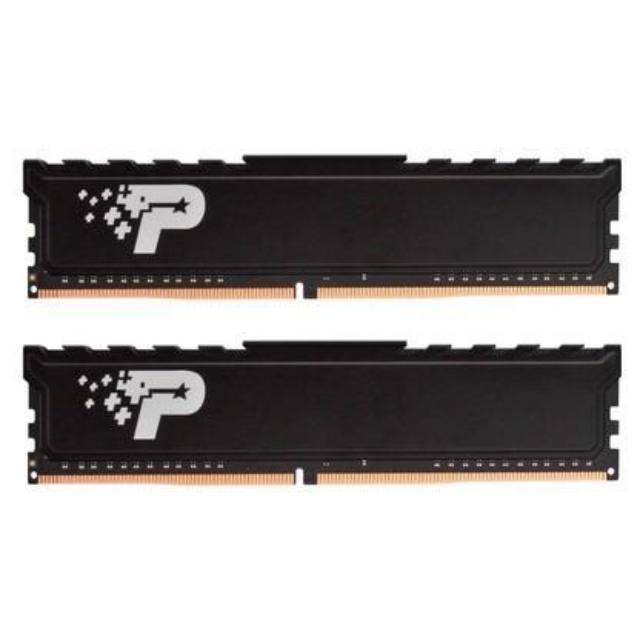RAM: (17, 338, 623, 493), (19, 150, 626, 302)
